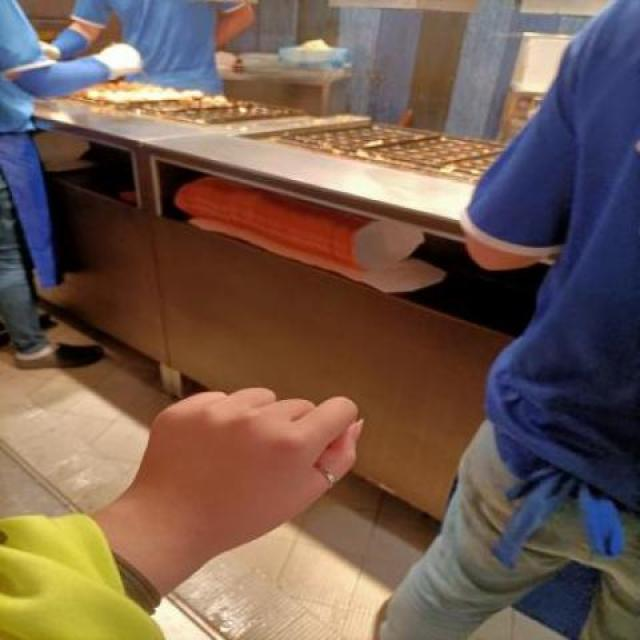Closed Hand: (131, 351, 372, 517)
